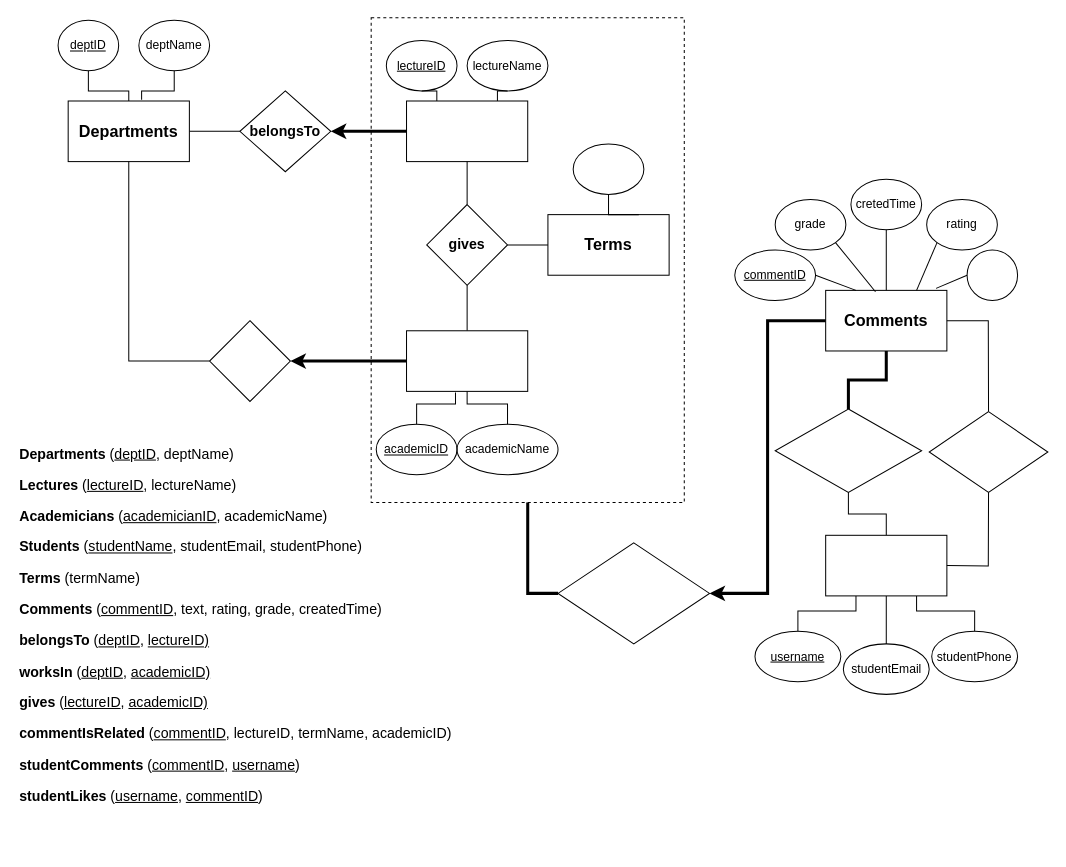
Image size: 1066x867. Some labels were removed from this diagram. Each missing label, with the box of its shape:
Academicians: (406, 330, 528, 391)
commentIsRelated: (557, 542, 710, 644)
Lectures: (406, 100, 528, 162)
studentComments: (774, 408, 922, 492)
studentLikes: (928, 411, 1048, 492)
Students: (825, 534, 947, 596)
termName: (572, 143, 644, 194)
text: (966, 249, 1018, 300)
worksIn: (209, 320, 290, 401)
